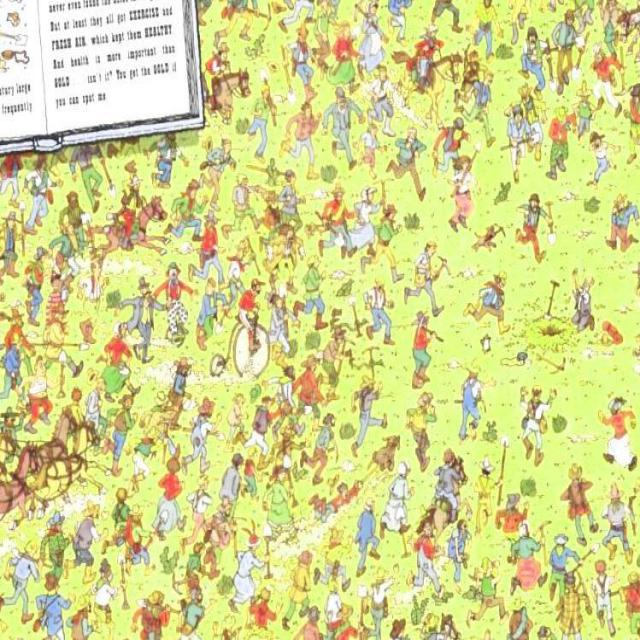waldo: (50, 270, 61, 290)
